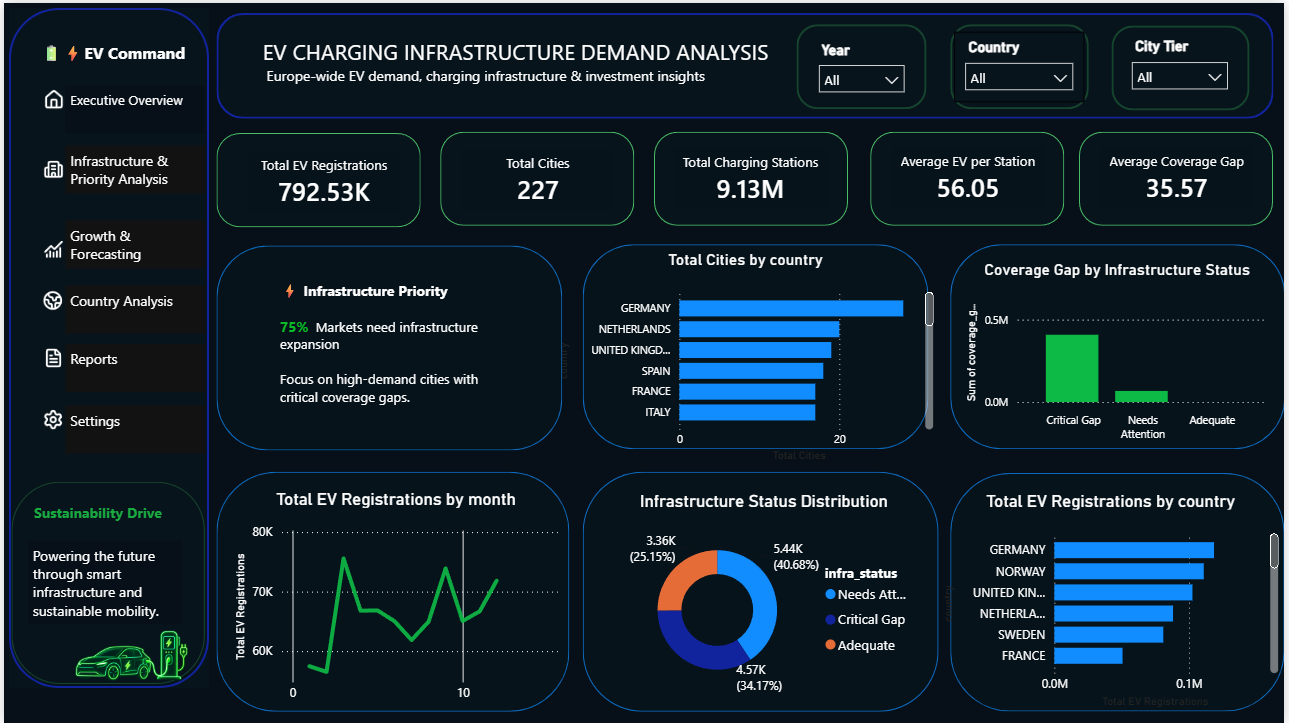

The page's visual inventory and layout, read from the dashboard file:
{"tool":"powerbi","page":{"name":"1.Executive Overview","canvas":[1280,720],"ordinal":0},"visuals":[{"type":"shape","box":[578.6,468.6,355.7,240],"z":0},{"type":"slicer","fields":{"Values":["ev_charging_analysis ev_data.country"]},"box":[963.8,28.8,115,66.2],"z":1000},{"type":"shape","box":[4.4,5.6,200,680],"z":2000},{"type":"donutChart","title":"Infrastructure Status Distribution","fields":{"Y":["CountNonNull(ev_charging_analysis ev_data.infra_status)"],"Category":["ev_charging_analysis ev_data.infra_status"]},"box":[601.4,487.1,317.5,208.8],"z":3000},{"type":"textbox","box":[20,34.2,177.5,38.3],"z":4000},{"type":"textbox","box":[60.7,142.1,140,48],"z":5000},{"type":"textbox","box":[60.7,217.1,140,48],"z":6000},{"type":"textbox","box":[60.7,282.9,140,48],"z":7000},{"type":"textbox","box":[60.7,340.7,140,48],"z":8000},{"type":"textbox","box":[60.7,402.9,140,48],"z":9000},{"type":"image","box":[38.6,86.4,22.1,20.7],"z":10000},{"type":"image","box":[38.6,236.4,21,20],"z":11000},{"type":"image","box":[38.6,156.4,21,20],"z":12000},{"type":"image","box":[38.6,287.1,20.7,20],"z":13000},{"type":"image","box":[38.6,345,21,20],"z":14000},{"type":"image","box":[38.6,406.4,20.7,20.7],"z":15000},{"type":"textbox","box":[60.7,82.9,140,48],"z":16000},{"type":"shape","box":[7.8,478.9,193.3,202.2],"z":17000},{"type":"image","box":[60,612.2,128.9,84.4],"z":18000},{"type":"textbox","box":[24.4,495.6,154.4,34.4],"z":19000},{"type":"textbox","box":[24.2,537.5,154.3,84.3],"z":20000},{"type":"shape","box":[212.9,10,1057.1,105.7],"z":21000},{"type":"textbox","box":[253.8,28.8,527.5,66.2],"z":22000},{"type":"shape","box":[792.5,21.2,130,85],"z":23000},{"type":"shape","box":[946.2,21.2,138.8,85],"z":24000},{"type":"shape","box":[1107.5,22.5,138,85],"z":25000},{"type":"slicer","fields":{"Values":["ev_charging_analysis ev_data.year"]},"box":[803.8,32.5,107.5,63.8],"z":26000},{"type":"slicer","fields":{"Values":["ev_charging_analysis ev_data.country"]},"box":[950,28.8,130,70],"z":27000},{"type":"slicer","fields":{"Values":["ev_charging_analysis ev_data.city_tier"]},"box":[1117.5,28.8,116.2,71],"z":28000},{"type":"shape","box":[436.2,128.8,194,94],"z":29000},{"type":"shape","box":[650,128.8,194,94],"z":30000},{"type":"shape","box":[866.2,128.8,194,94],"z":31000},{"type":"shape","box":[1075,128.8,194,94],"z":32000},{"type":"shape","box":[212.9,130,204.3,94.3],"z":33000},{"type":"cardVisual","fields":{"Data":["ev_charging_analysis ev_data.Total EV Registrations"]},"box":[238.7,142,163.2,71.2],"z":34000},{"type":"cardVisual","fields":{"Data":["ev_charging_analysis ev_data.Total Cities"]},"box":[452,141.3,163.2,71.2],"z":35000},{"type":"cardVisual","fields":{"Data":["ev_charging_analysis ev_data.Total Charging Stations"]},"box":[665.3,140,163.2,71.2],"z":36000},{"type":"cardVisual","fields":{"Data":["ev_charging_analysis ev_data.Average EV per Station"]},"box":[882.5,138.8,163.2,71.2],"z":37000},{"type":"cardVisual","fields":{"Data":["ev_charging_analysis ev_data.Average Coverage Gap"]},"box":[1091.2,138.8,163.2,71.2],"z":38000},{"type":"shape","box":[212.9,468.6,352.9,240],"z":39000},{"type":"lineChart","fields":{"Category":["ev_charging_analysis ev_data.month"],"Y":["ev_charging_analysis ev_data.Total EV Registrations"]},"box":[227.1,482.9,329,223],"z":40000},{"type":"shape","box":[945.7,241.4,335,205],"z":41000},{"type":"shape","box":[945.7,470,334.3,238.6],"z":42000},{"type":"barChart","fields":{"Category":["ev_charging_analysis ev_data.country"],"Y":["ev_charging_analysis ev_data.Total EV Registrations"]},"box":[934.3,487.1,345.7,221.4],"z":43000},{"type":"columnChart","title":"Coverage Gap by Infrastructure Status","fields":{"Category":["ev_charging_analysis ev_data.infra_status"],"Y":["Sum(ev_charging_analysis ev_data.coverage_gap)"]},"box":[957.1,257.1,311.4,188.6],"z":44000},{"type":"shape","box":[578.6,241.4,345.7,205],"z":45000},{"type":"clusteredBarChart","fields":{"Y":["ev_charging_analysis ev_data.Total Cities"],"Category":["ev_charging_analysis ev_data.country"]},"box":[548.6,247.1,385.7,215.7],"z":46000},{"type":"shape","box":[212.9,242.9,345.7,205],"z":47000},{"type":"textbox","box":[263.8,273.1,233.8,136.2],"z":49000}]}

Visuals, with their boxes on the page's 1280x720 design canvas (x1, y1, x2, y2). These are canvas units, not pixel positions in the 1289x723 screenshot, which may show the page scaled, cropped or inside an application window:
shape: 579,469,934,709
slicer - ev_charging_analysis ev_data.country: 964,29,1079,95
shape: 4,6,204,686
"Infrastructure Status Distribution" donutChart: 601,487,919,696
textbox: 20,34,198,72
textbox: 61,142,201,190
textbox: 61,217,201,265
textbox: 61,283,201,331
textbox: 61,341,201,389
textbox: 61,403,201,451
image: 39,86,61,107
image: 39,236,60,256
image: 39,156,60,176
image: 39,287,59,307
image: 39,345,60,365
image: 39,406,59,427
textbox: 61,83,201,131
shape: 8,479,201,681
image: 60,612,189,697
textbox: 24,496,179,530
textbox: 24,538,178,622
shape: 213,10,1270,116
textbox: 254,29,781,95
shape: 792,21,922,106
shape: 946,21,1085,106
shape: 1108,22,1246,108
slicer - ev_charging_analysis ev_data.year: 804,32,911,96
slicer - ev_charging_analysis ev_data.country: 950,29,1080,99
slicer - ev_charging_analysis ev_data.city_tier: 1118,29,1234,100
shape: 436,129,630,223
shape: 650,129,844,223
shape: 866,129,1060,223
shape: 1075,129,1269,223
shape: 213,130,417,224
cardVisual - ev_charging_analysis ev_data.Total EV Registrations: 239,142,402,213
cardVisual - ev_charging_analysis ev_data.Total Cities: 452,141,615,212
cardVisual - ev_charging_analysis ev_data.Total Charging Stations: 665,140,828,211
cardVisual - ev_charging_analysis ev_data.Average EV per Station: 882,139,1046,210
cardVisual - ev_charging_analysis ev_data.Average Coverage Gap: 1091,139,1254,210
shape: 213,469,566,709
lineChart - ev_charging_analysis ev_data.month x ev_charging_analysis ev_data.Total EV Registrations: 227,483,556,706
shape: 946,241,1281,446
shape: 946,470,1280,709
barChart - ev_charging_analysis ev_data.country x ev_charging_analysis ev_data.Total EV Registrations: 934,487,1280,708
"Coverage Gap by Infrastructure Status" columnChart: 957,257,1268,446
shape: 579,241,924,446
clusteredBarChart - ev_charging_analysis ev_data.Total Cities x ev_charging_analysis ev_data.country: 549,247,934,463
shape: 213,243,559,448
textbox: 264,273,498,409
